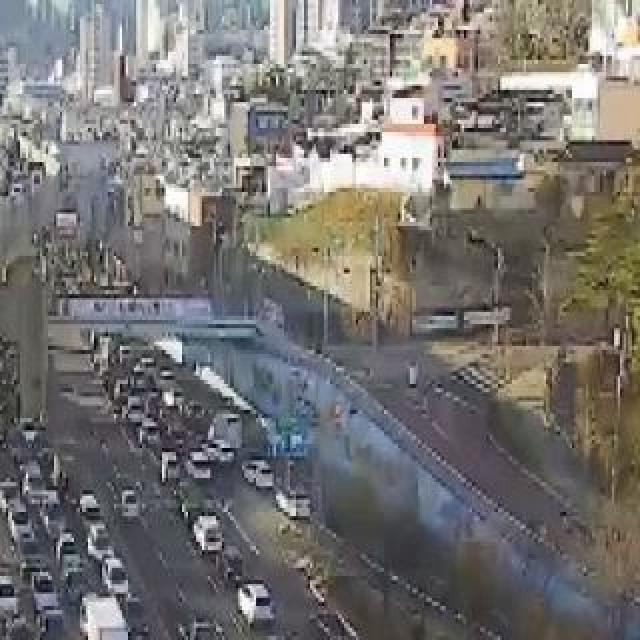truck: (82, 592, 140, 640)
